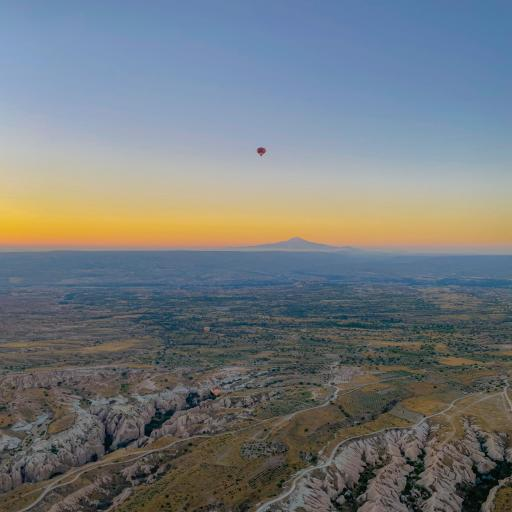hot air ballon: (251, 138, 273, 164)
